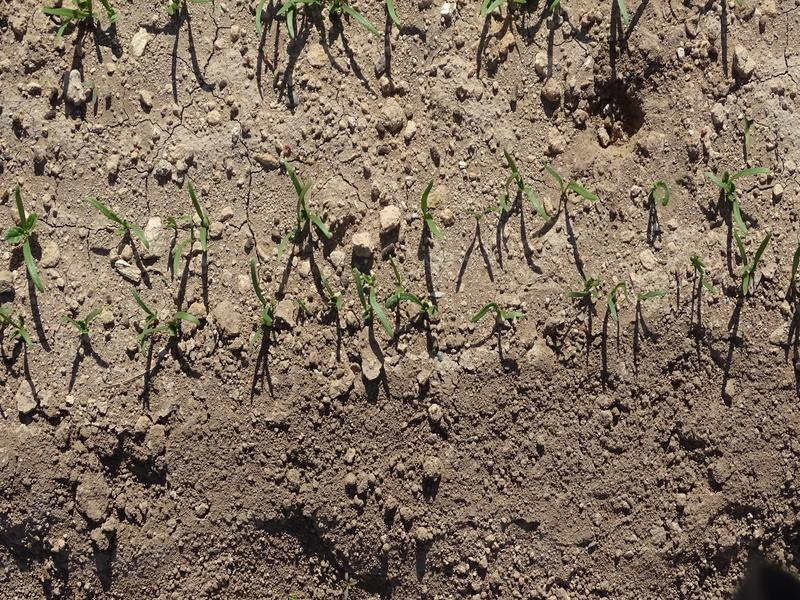Espinaca: (495, 151, 595, 220), (246, 3, 408, 35), (341, 273, 424, 331), (704, 161, 764, 225), (81, 192, 149, 247), (283, 166, 329, 247), (9, 208, 49, 296), (168, 189, 212, 267), (131, 295, 207, 340), (48, 1, 119, 48), (728, 234, 776, 294), (578, 278, 630, 313), (419, 182, 448, 244), (467, 300, 524, 326), (7, 306, 37, 347), (249, 304, 278, 338)
